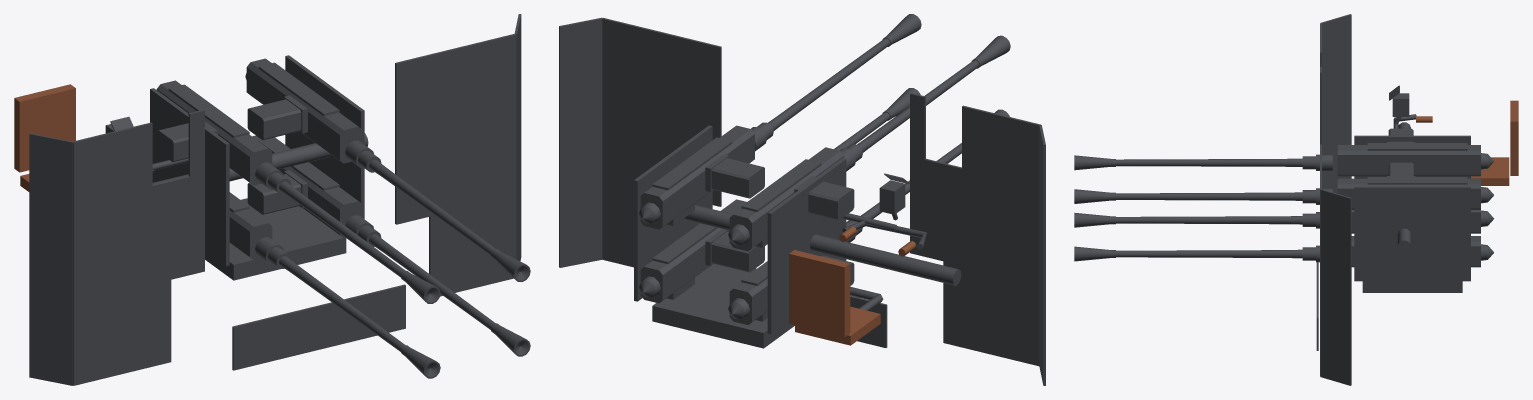
File: flakvierling.obj
3 views of the same model, side by side, from view 1: azimuth 30°, elevation 25°; view 2: azimuth 150°, elevation 25°; view 3: azimuth 270°, elevation 25° (orthographic). The views are drawn at different scales.
Visible parts, largest first — view 1: yaw_0, turret_0, turret_1; view 2: yaw_0, turret_0, turret_1; view 3: turret_0, yaw_0, turret_1.
Part boxes in pixels (bbox=[...]): yaw_0: bbox=[29, 14, 521, 385]; turret_0: bbox=[105, 55, 530, 378]; turret_1: bbox=[14, 84, 75, 191]; yaw_0: bbox=[559, 17, 1045, 385]; turret_0: bbox=[634, 14, 1010, 348]; turret_1: bbox=[789, 226, 916, 345]; turret_0: bbox=[1074, 85, 1494, 292]; yaw_0: bbox=[1316, 14, 1351, 385]; turret_1: bbox=[1416, 100, 1518, 185].
Size of the model in its own units: 2.62 by 1.35 by 2.67.
